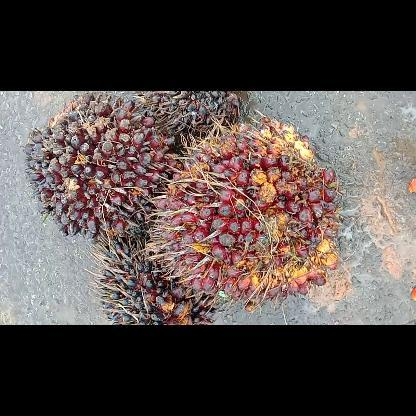Kurang masak: (25, 94, 176, 242)
TBS abnormal: (100, 240, 214, 324), (138, 91, 247, 145)
TBS masak: (156, 116, 338, 310)
